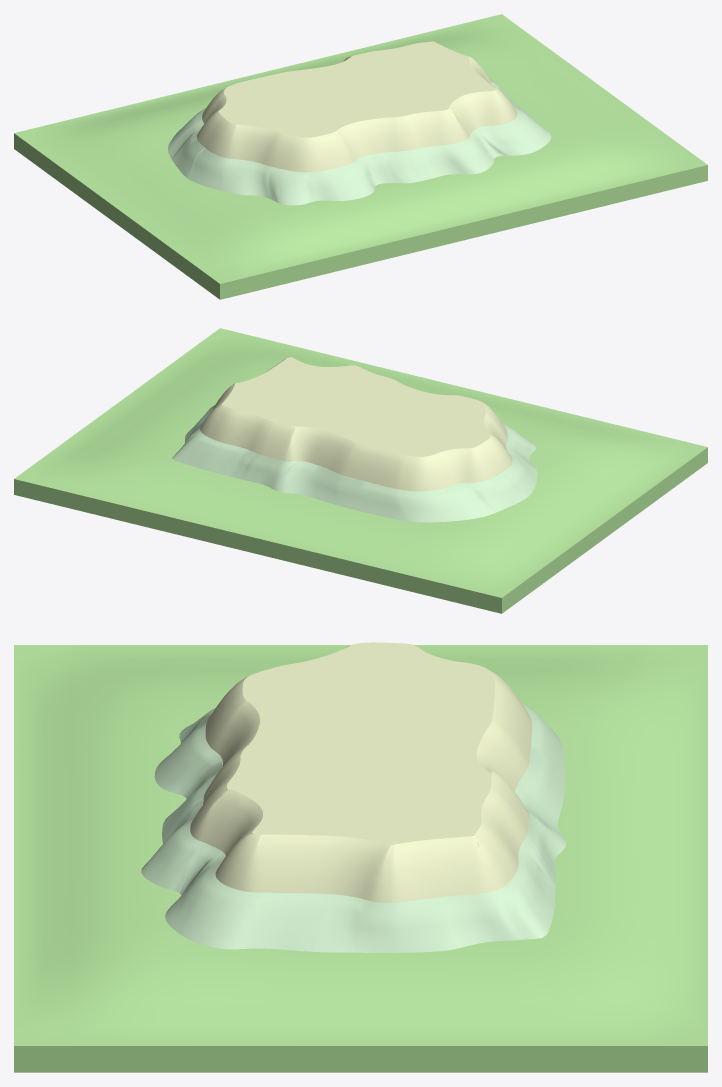
The model's file is tableLand.fbx.
3 views of the same model, one above another, from view 1: azimuth 30°, elevation 25°; view 2: azimuth 150°, elevation 25°; view 3: azimuth 270°, elevation 25° (orthographic). The views are drawn at different scales.
Visible parts, largest first — view 1: 物件_2, 物件_6, 物件_1; view 2: 物件_2, 物件_6, 物件_1; view 3: 物件_2, 物件_6, 物件_1.
Part boxes in pixels (x1,y1,x2,y2): 物件_2: (14, 14, 707, 299); 物件_6: (197, 41, 517, 172); 物件_1: (168, 79, 551, 205); 物件_2: (14, 328, 707, 613); 物件_6: (200, 357, 512, 491); 物件_1: (172, 405, 537, 522); 物件_2: (14, 645, 707, 1072); 物件_6: (190, 642, 532, 902); 物件_1: (141, 703, 565, 952).
Bounding box in the file's own units: 4.89 × 0.7013 × 3.58.
